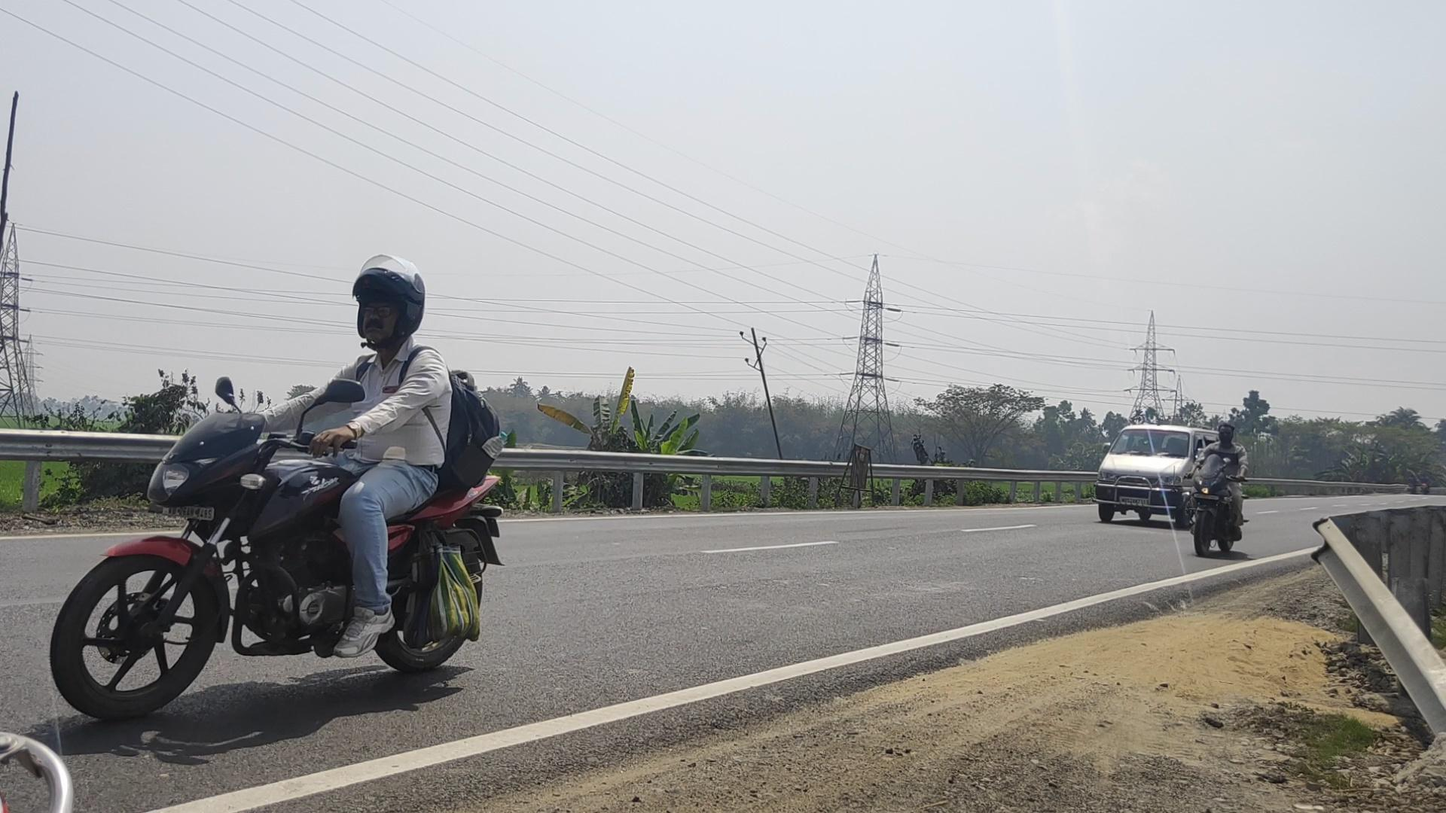bike: (50, 254, 502, 718), (1183, 424, 1249, 556)
van: (1093, 424, 1223, 529)
